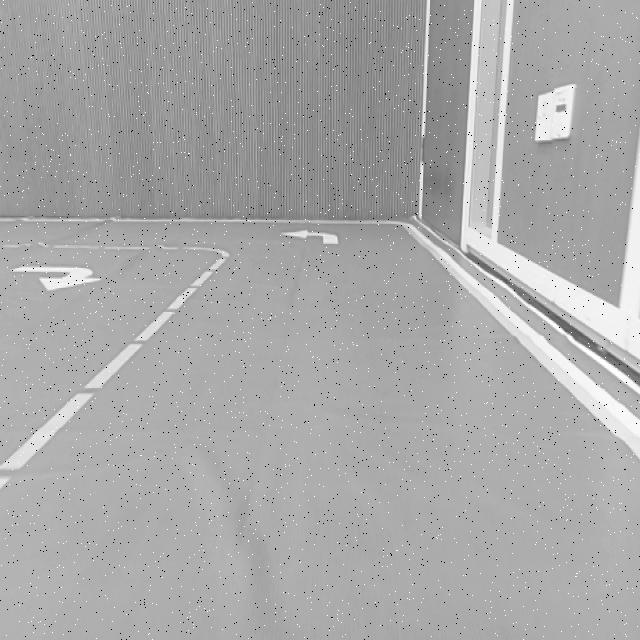left_lane: (0, 256, 230, 489)
right_lane: (402, 224, 640, 459)
